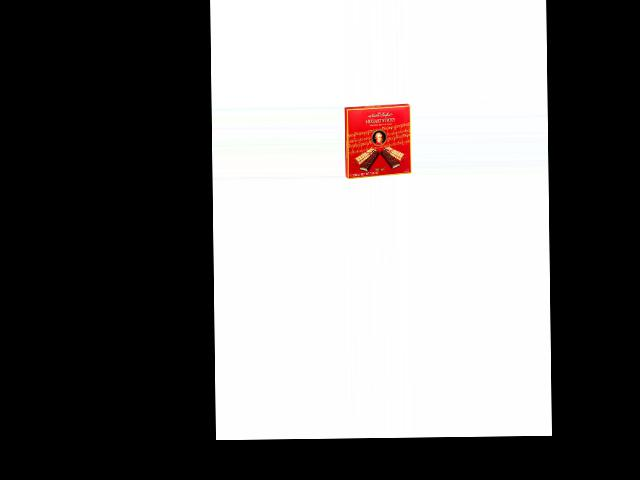chocolate: (344, 104, 413, 180)
